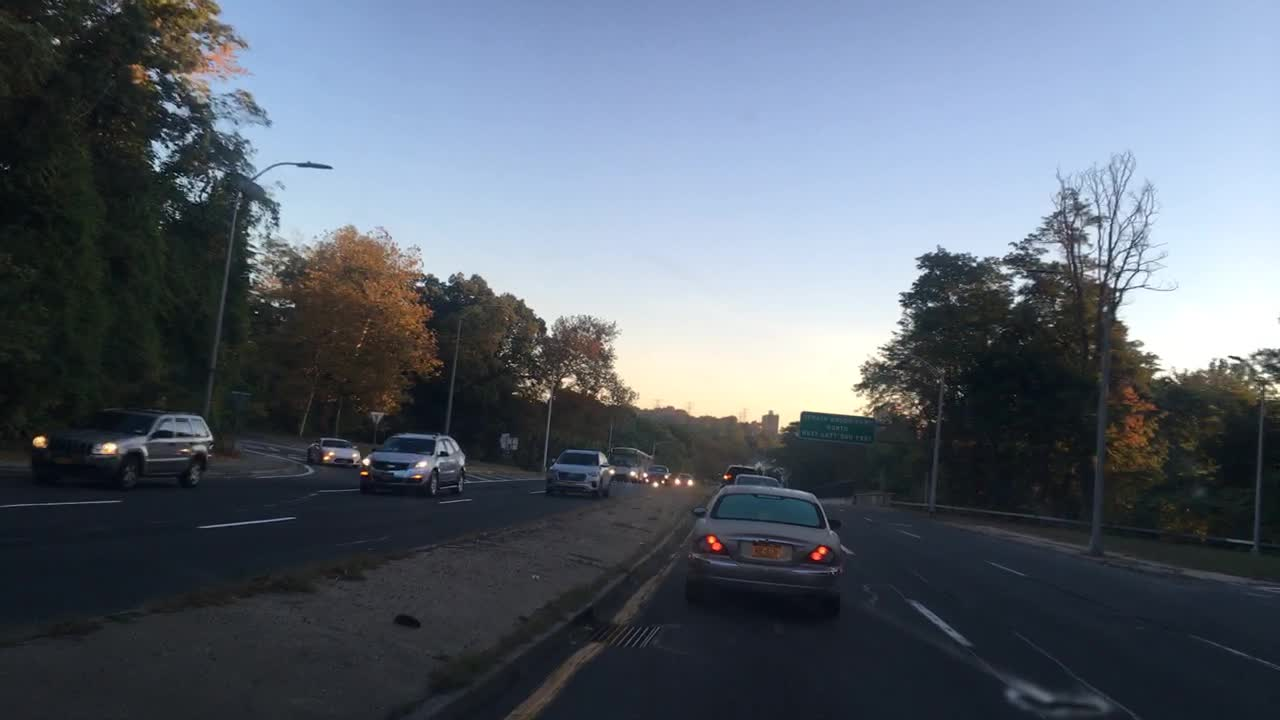bus: (606, 446, 651, 484)
car: (678, 484, 845, 614), (27, 407, 212, 491), (359, 432, 467, 496), (545, 447, 615, 497), (304, 435, 360, 467), (719, 464, 759, 488), (732, 474, 781, 490), (644, 463, 669, 487), (762, 469, 788, 483), (674, 473, 697, 487)
traffic sign: (796, 411, 879, 445), (368, 409, 384, 423)
